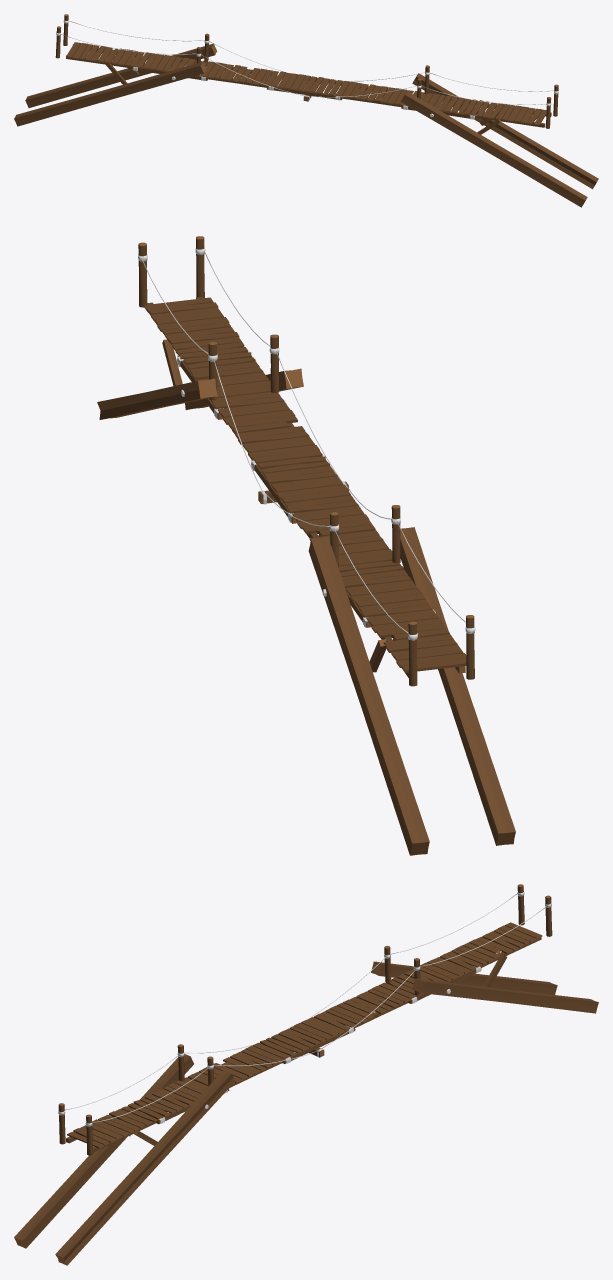
File: Bridge.glb
3 views of the same model, one above another, from view 1: azimuth 30°, elevation 25°; view 2: azimuth 150°, elevation 25°; view 3: azimuth 270°, elevation 25° (orthographic). The views are drawn at different scales.
Visible parts, largest first — view 1: Bridge; view 2: Bridge; view 3: Bridge.
Boxes of the visible parts, x1,y1,x2,y2 form: Bridge: [14, 14, 598, 207]; Bridge: [97, 236, 515, 855]; Bridge: [14, 884, 598, 1265].
Bounding box in the file's own units: 46.18 × 13.2 × 45.54.
